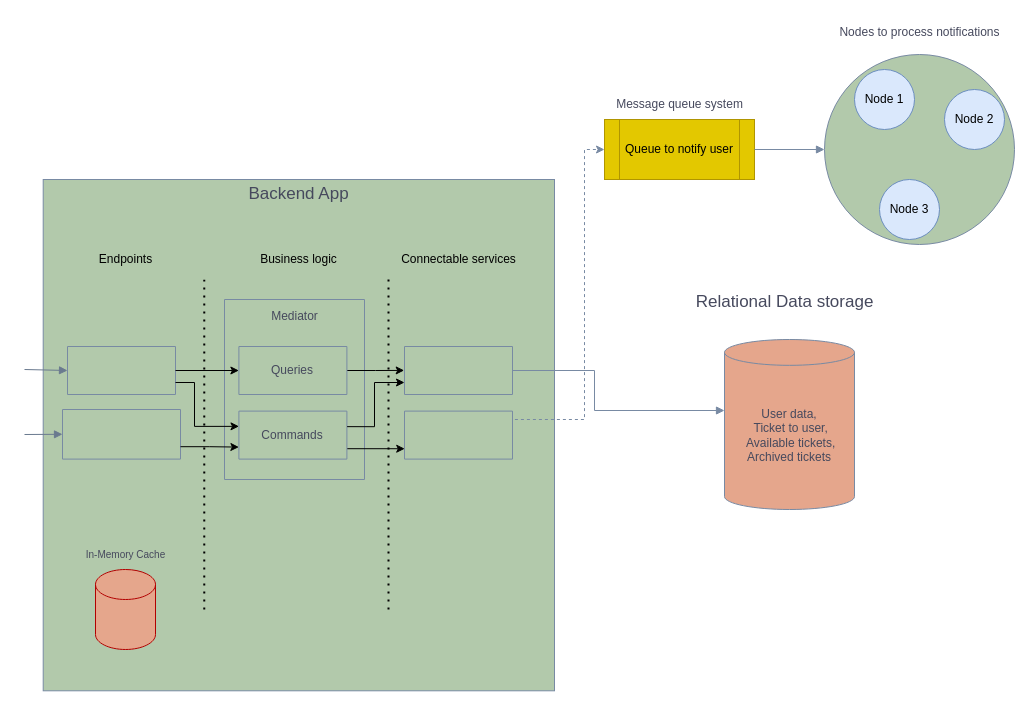
Image size: 1032x708. Some labels were removed from this diagram. Here are the shapes that lost their labels. From the top down, the centre of each, then its label:
the point at 121,370: User REST API
the point at 458,370: DAL
the point at 121,433: Manager REST API
the point at 458,434: Queue Client
